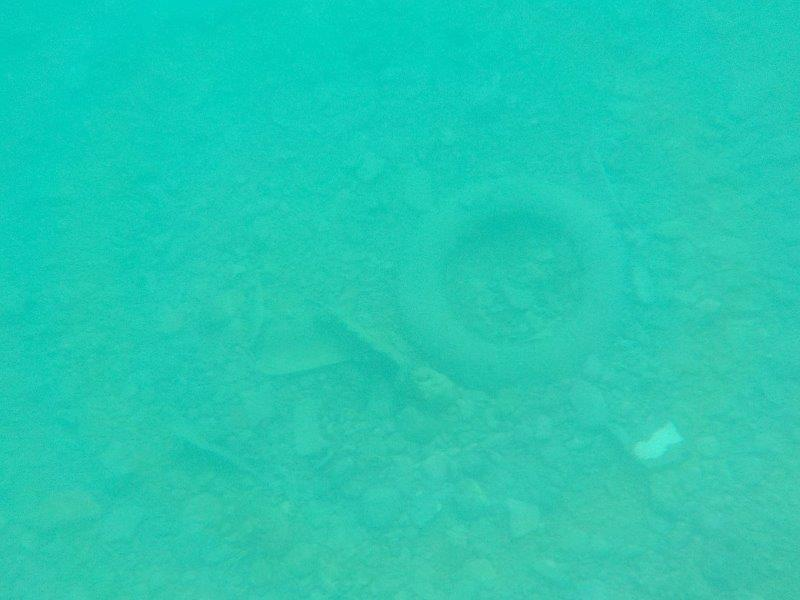tire: (390, 172, 633, 410)
